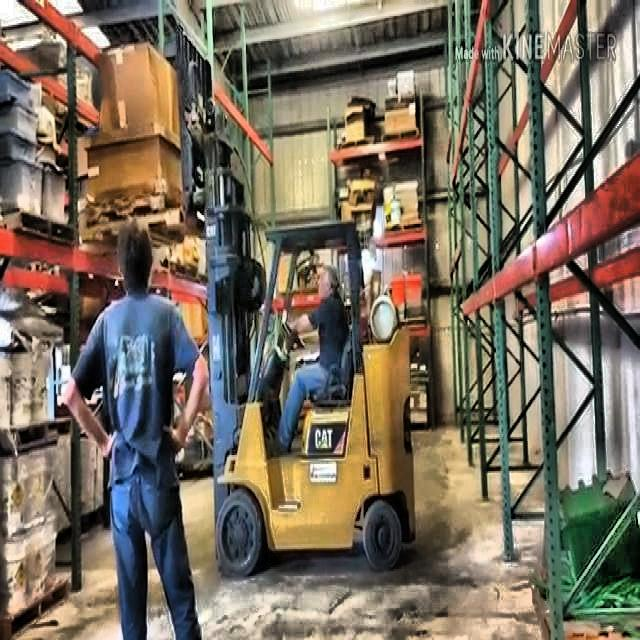bull_dozer/loader/grader: (201, 167, 420, 581)
person: (63, 212, 209, 638)
